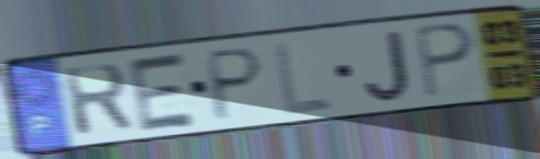E: (125, 49, 200, 135)
J: (362, 28, 414, 104)
L: (271, 38, 336, 118)
P: (411, 20, 478, 102), (206, 44, 267, 125)
R: (58, 61, 137, 139)
